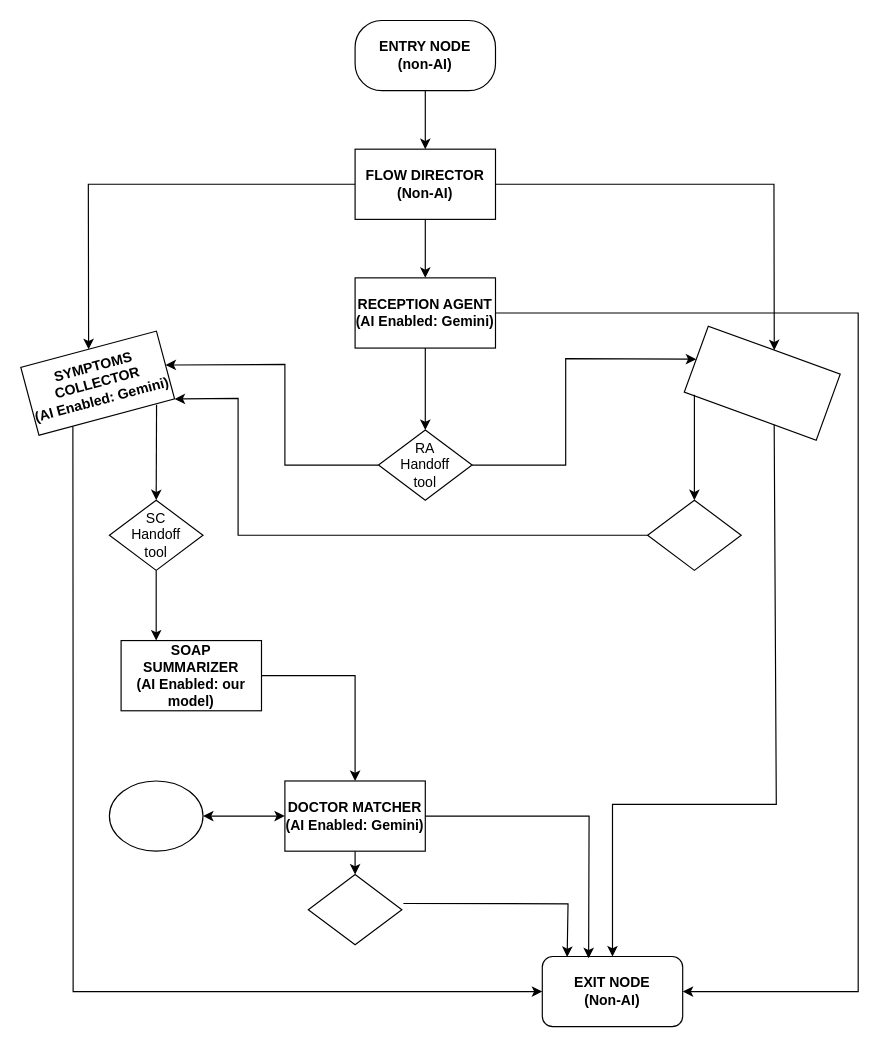
Some shapes in this 888 by 1047 pixel diagram are drawn without their labels. Each missing label, with the box of its shape:
DM Handoff tool: (307, 873, 402, 945)
Doctor Search Tool: (108, 780, 203, 851)
MA Handoff tool: (646, 499, 741, 570)
MEDICAL SPECIALIST (AI Enabled: Gemini): (683, 325, 840, 440)
